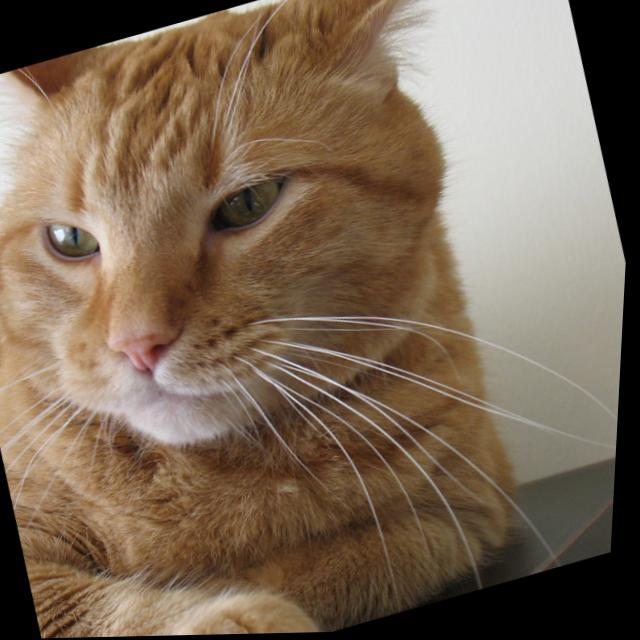animals: (0, 0, 537, 405)
